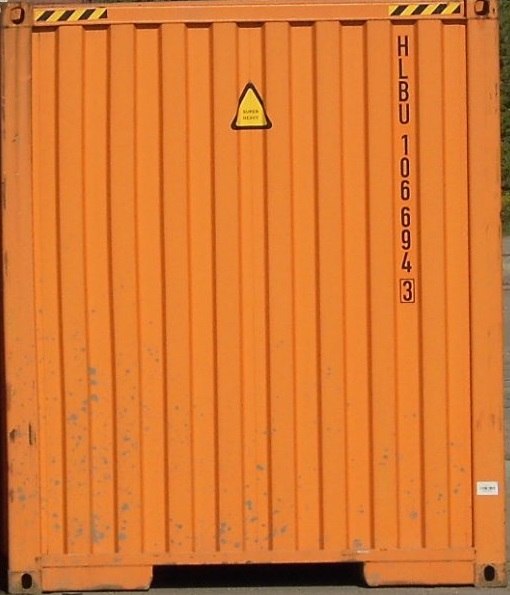container_no_door: (7, 1, 500, 586)
